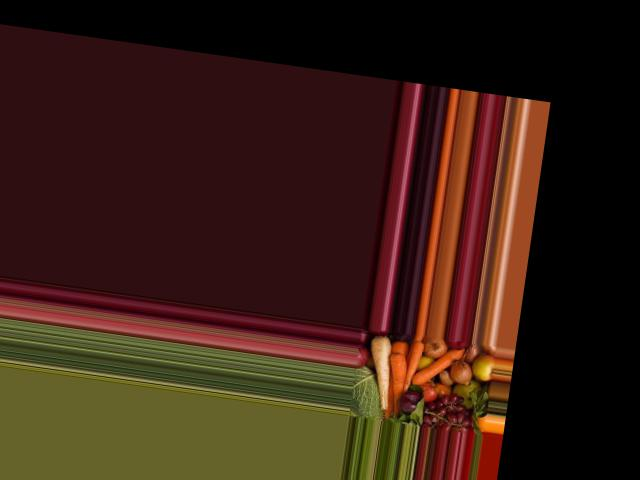carrot: (387, 350, 407, 414)
